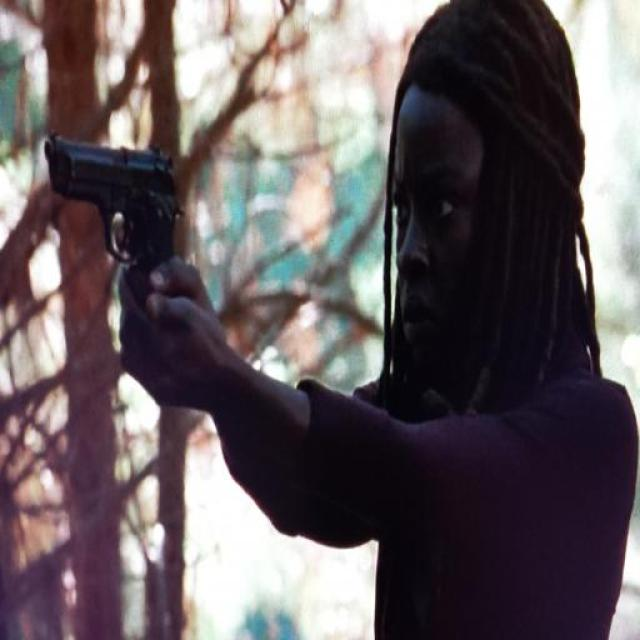pistol: (45, 118, 182, 304)
